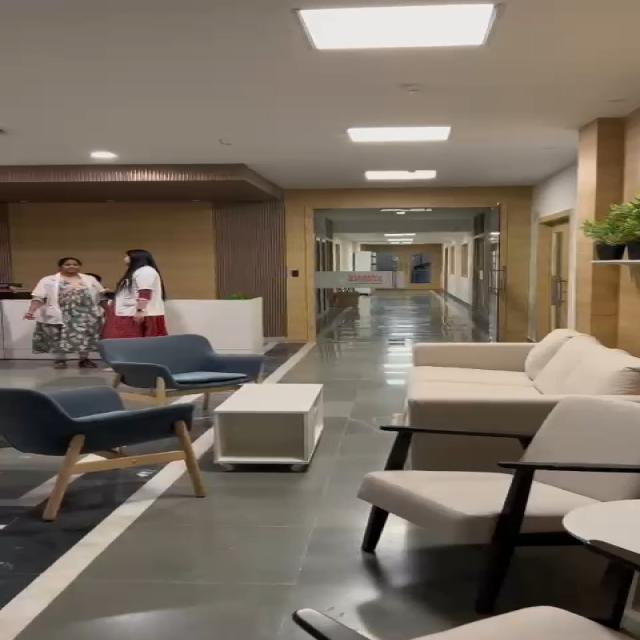floor: (11, 506, 317, 640), (342, 295, 400, 415)
furniture: (307, 453, 640, 596), (0, 331, 272, 498), (379, 332, 640, 459), (240, 572, 640, 639), (563, 190, 640, 273)
moving_object: (6, 252, 191, 344)
wall: (0, 150, 294, 251), (473, 140, 592, 312)
